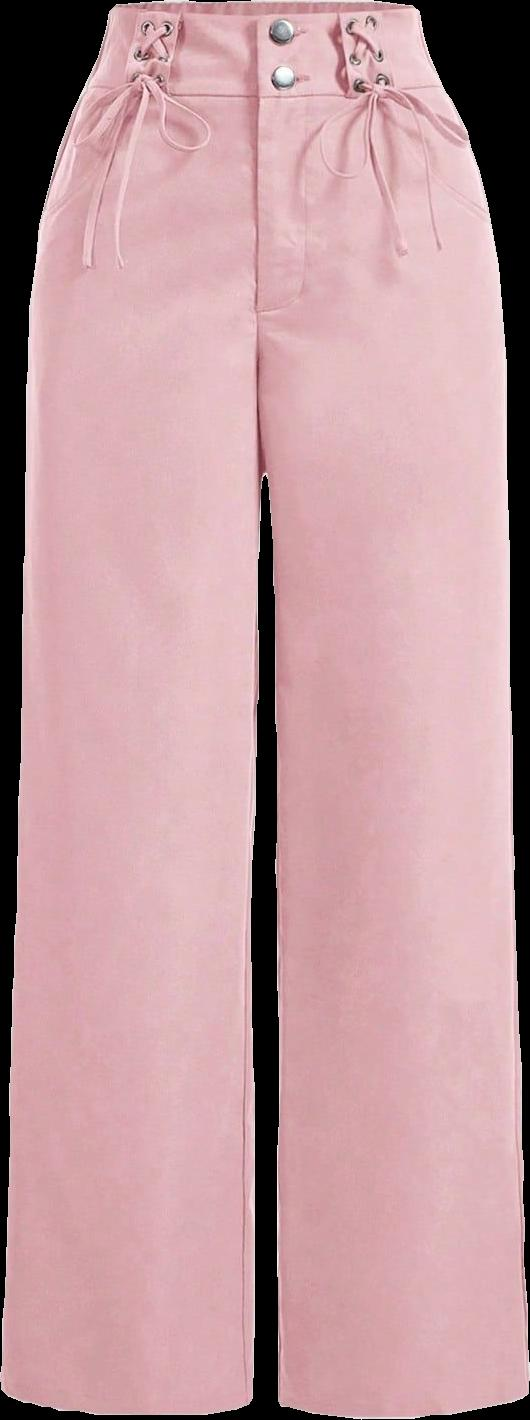Hemline: (275, 1374, 529, 1418), (0, 1379, 260, 1419)
Pantleg: (255, 0, 529, 1415), (1, 0, 269, 1413)
Waistline: (107, 0, 419, 28)
